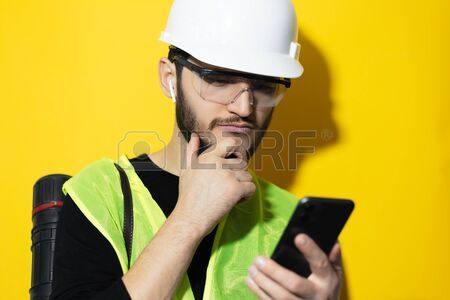Person_wearing_helmet: (150, 1, 322, 111)
